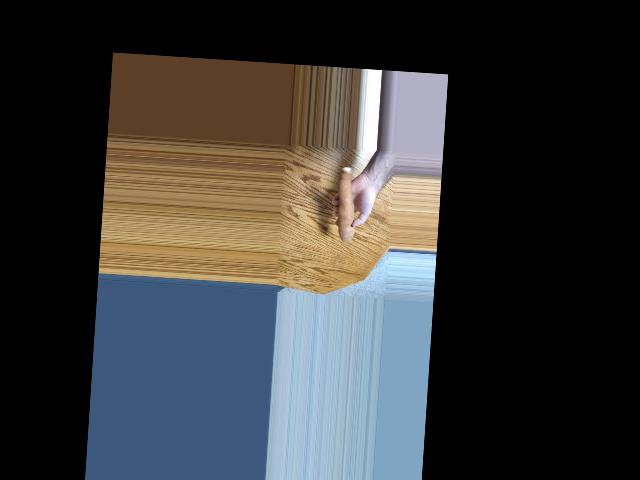sweet_potato: (330, 172, 354, 242)
